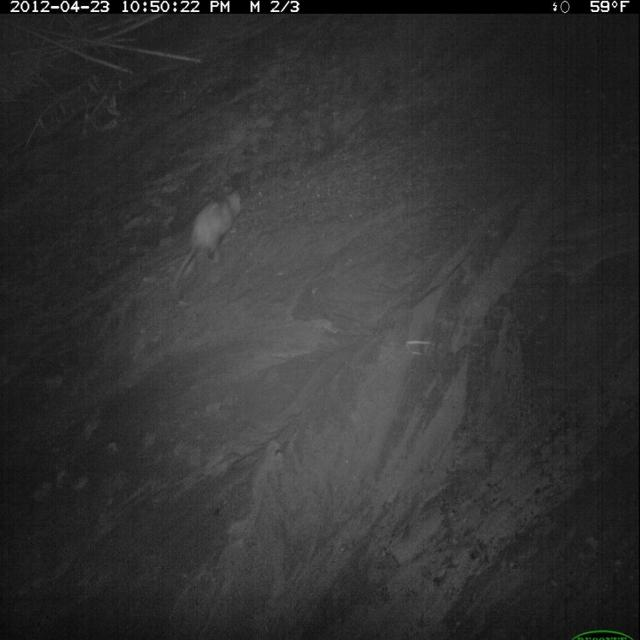opossum: (173, 181, 246, 290)
